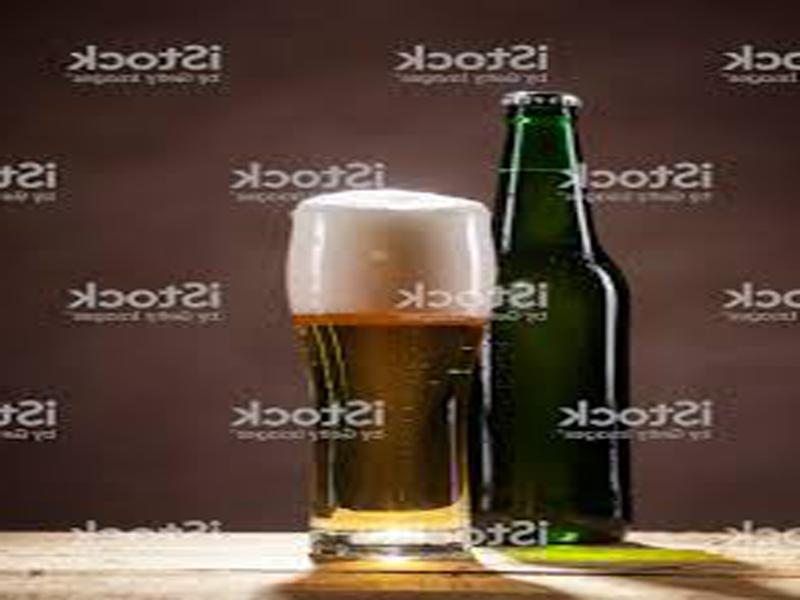Beer: (466, 92, 633, 547)
